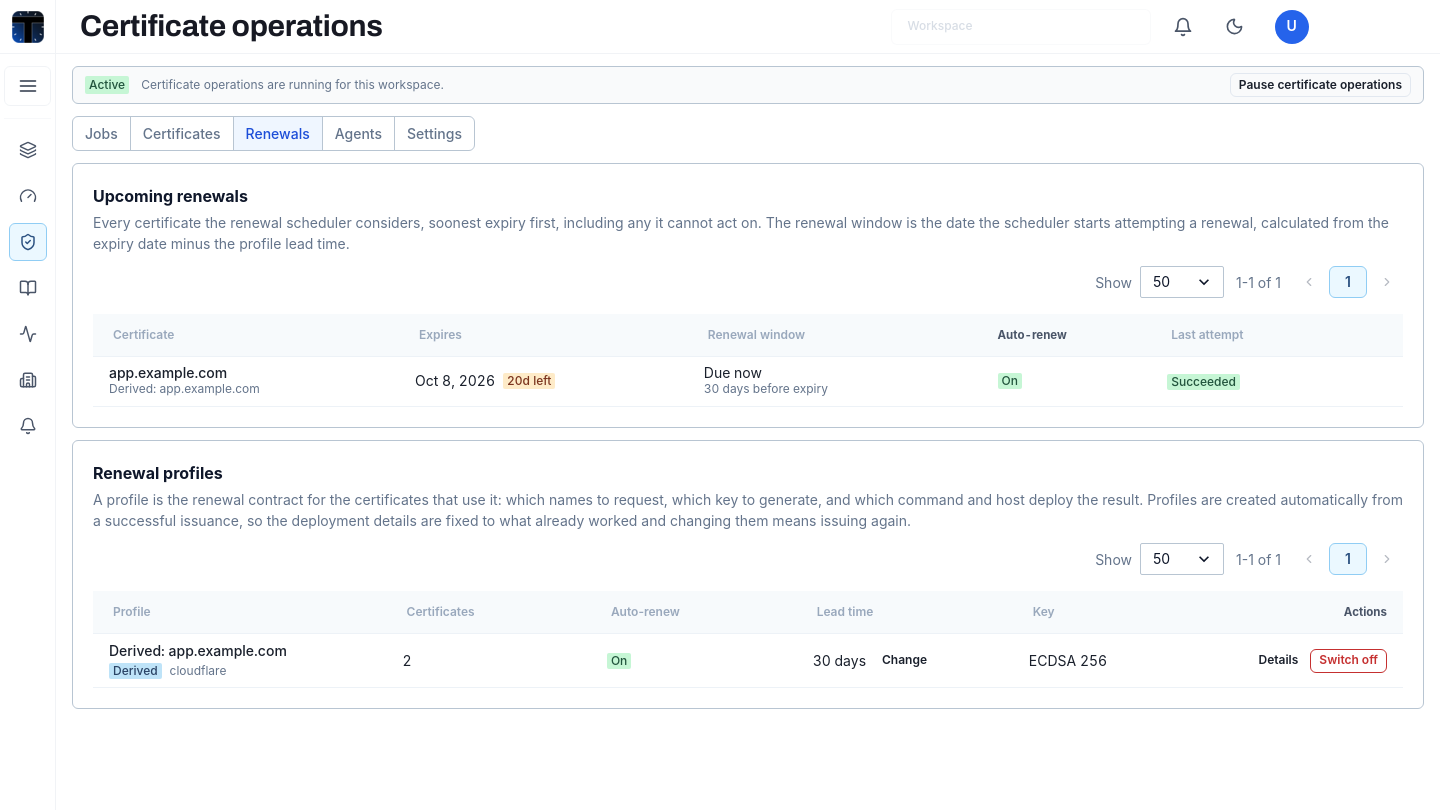
it: CertOpsRenewals page › refuses to save a lead time the server would reject
Click the button "Change" at {"x": 904, "y": 661}, box [874,649,935,673]
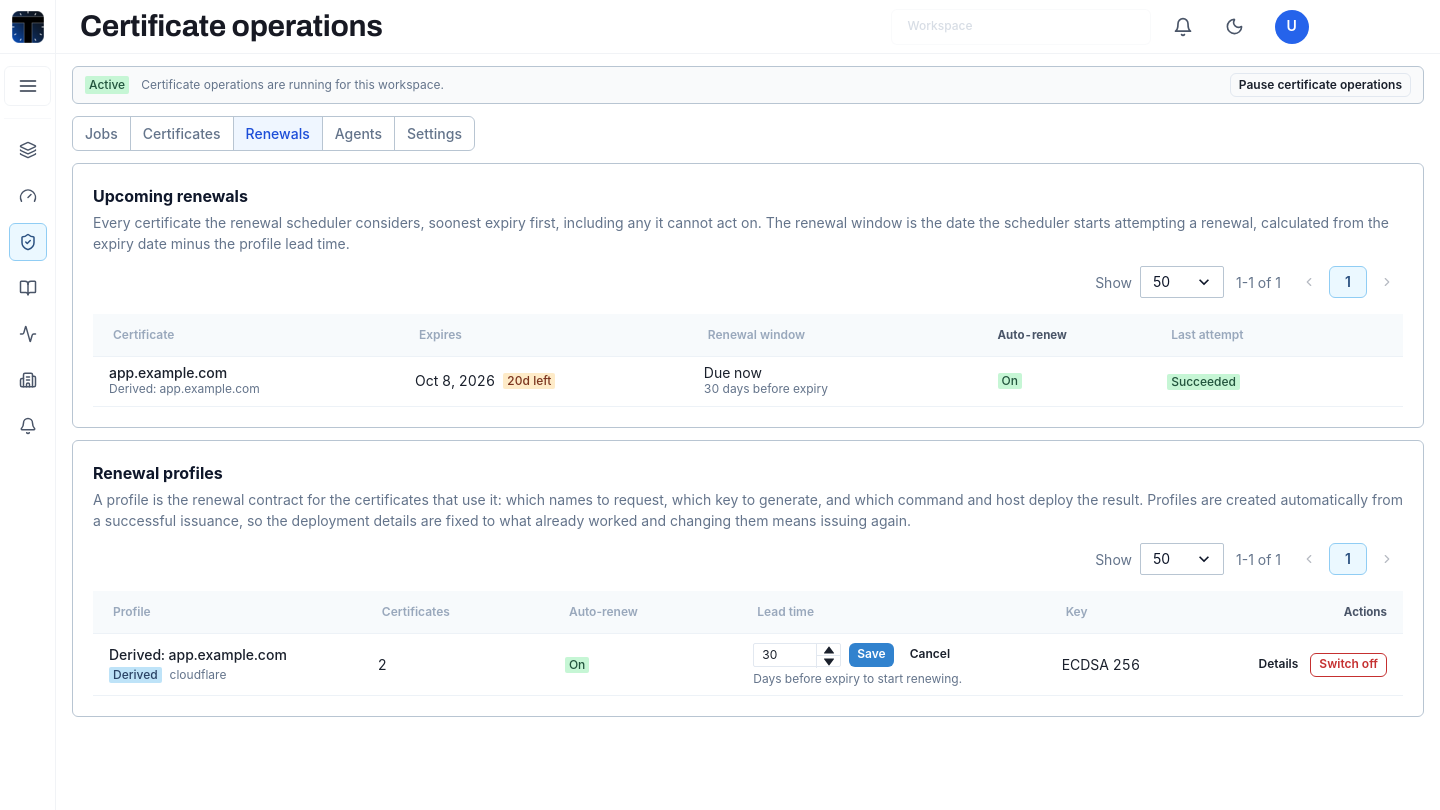
Replace the text in the number field named "Renewal lead time in days" with "0" at {"x": 797, "y": 655}, box [753,643,841,667]
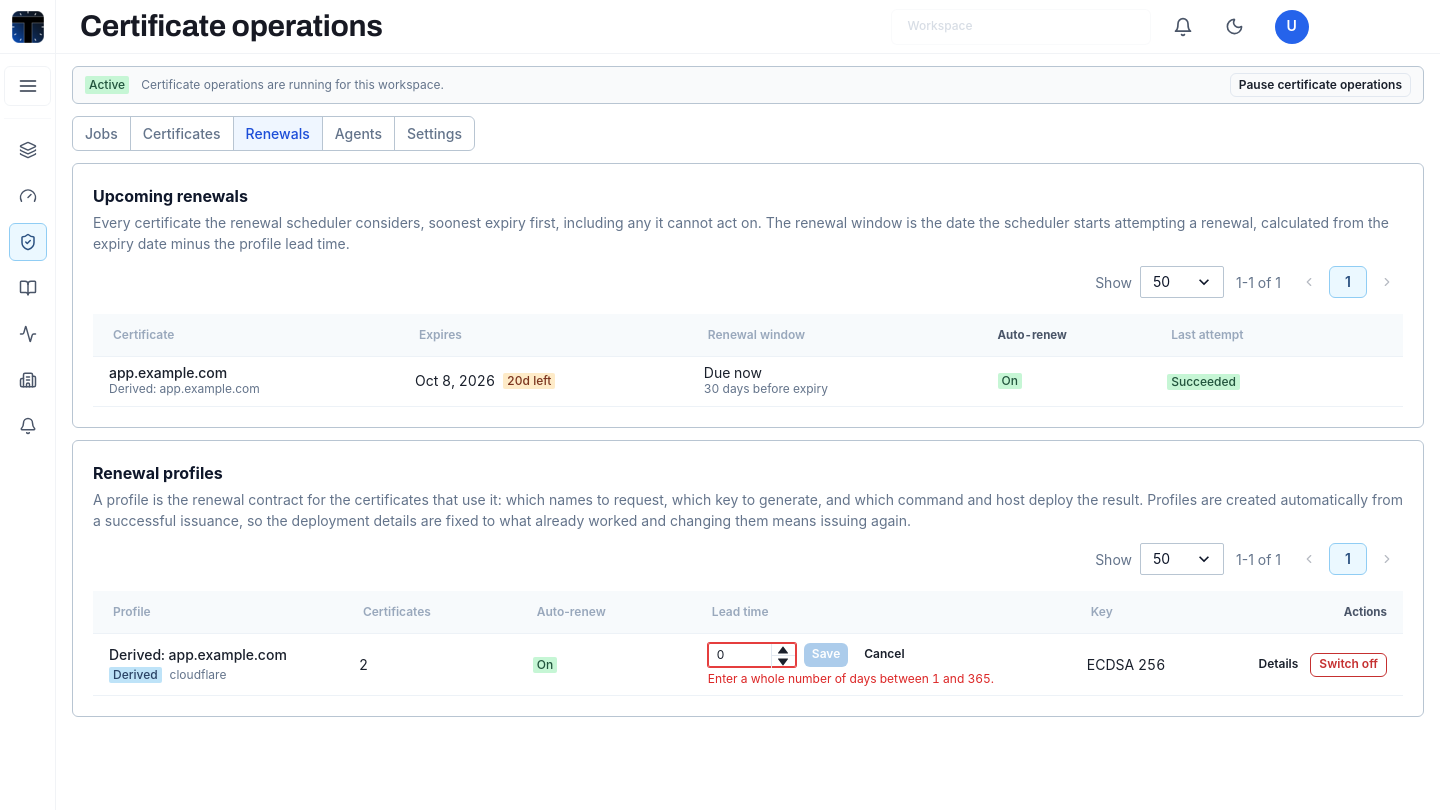
Result: the text "Enter a whole number of days between 1 and 365." is shown at [708,671,994,686]
Result: the button "Save" is disabled at [804,643,848,667]
